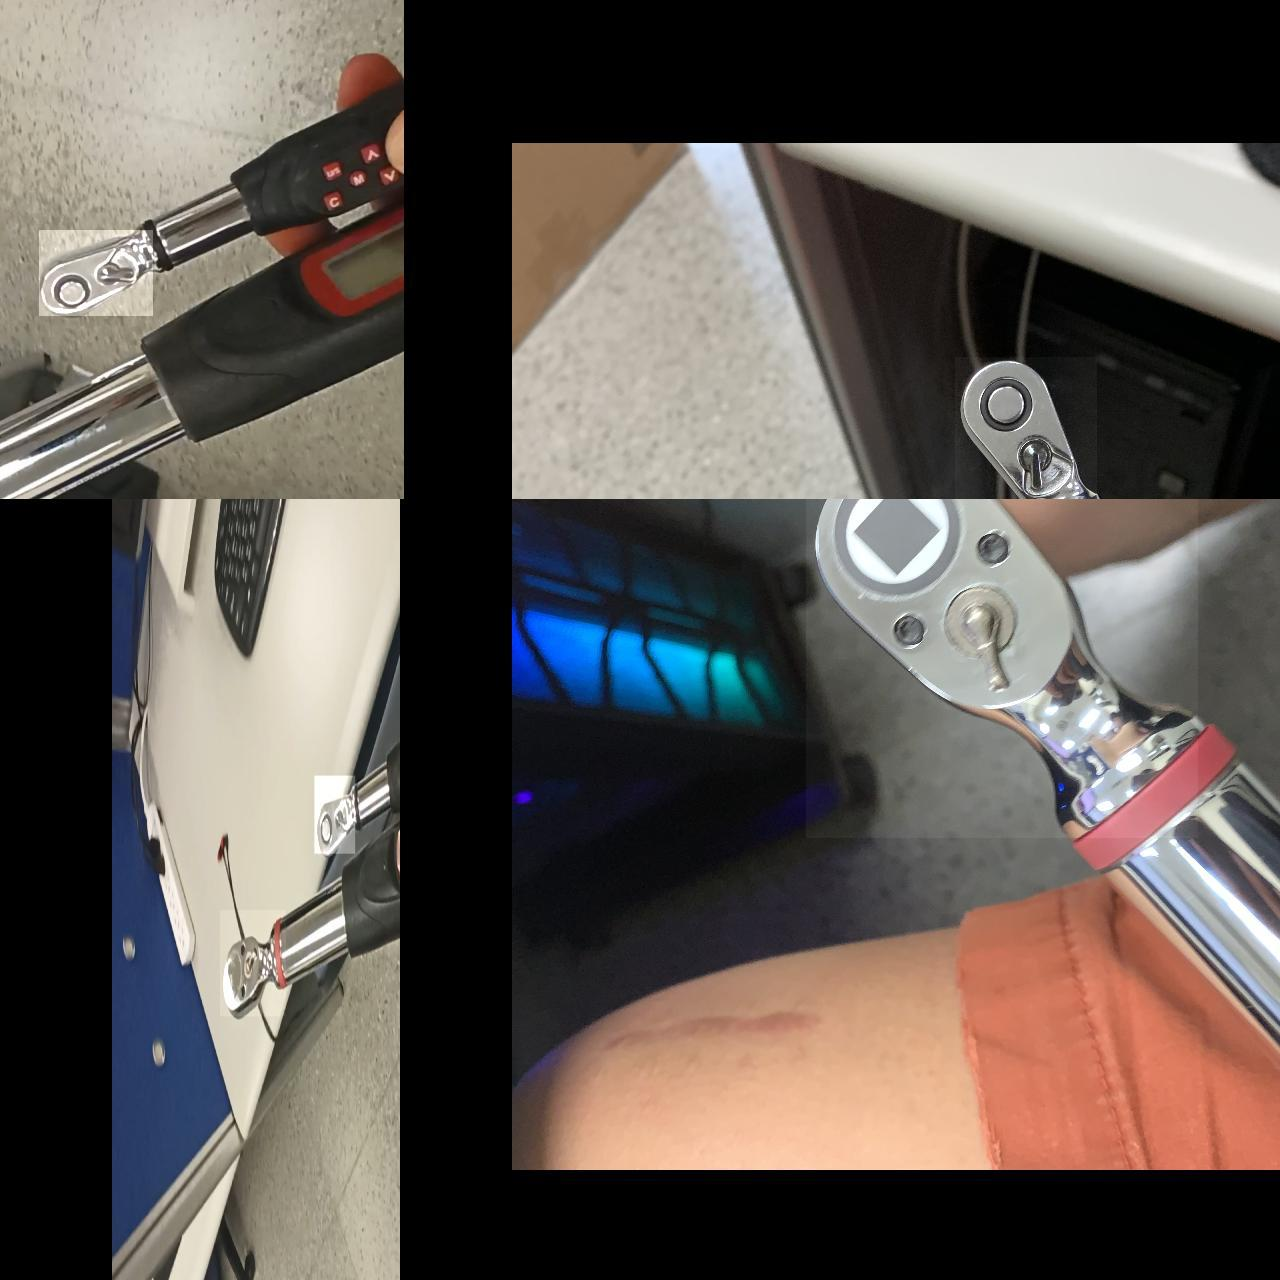Tool: (806, 499, 1198, 837), (955, 356, 1097, 499), (39, 229, 154, 315), (220, 908, 286, 1015), (314, 775, 355, 852)
